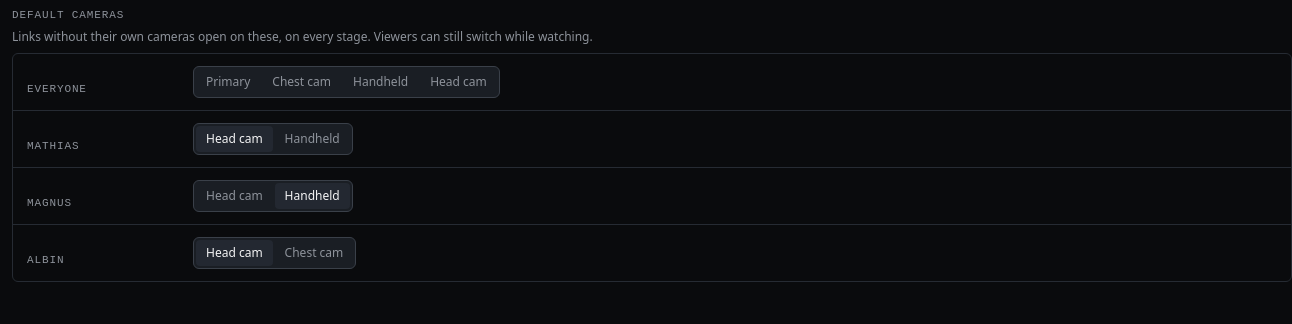
ShareCameras › everyone on handheld saves those who have one and names the rest
Click the button "Handheld" in the row of "Everyone" at {"x": 381, "y": 82}, box [343,69,418,95]
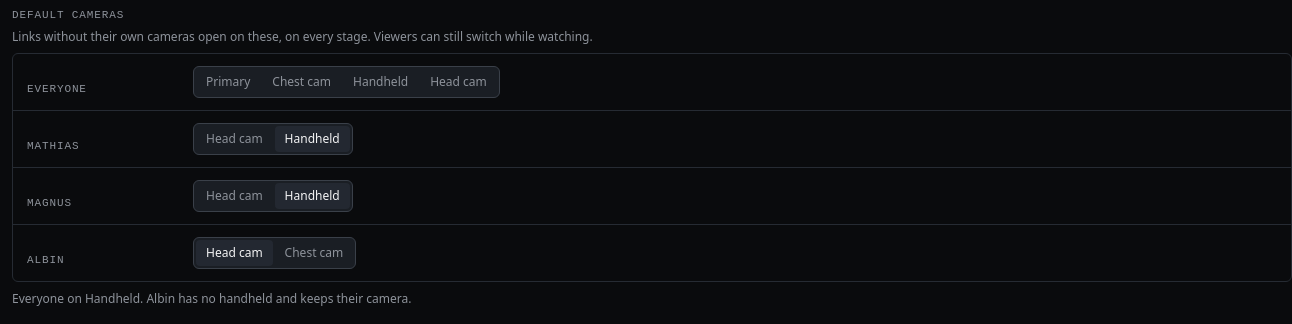
Expected: the text "Everyone on Handheld. Albin has no handheld and keeps their camera." is shown, [12,290,411,307]
